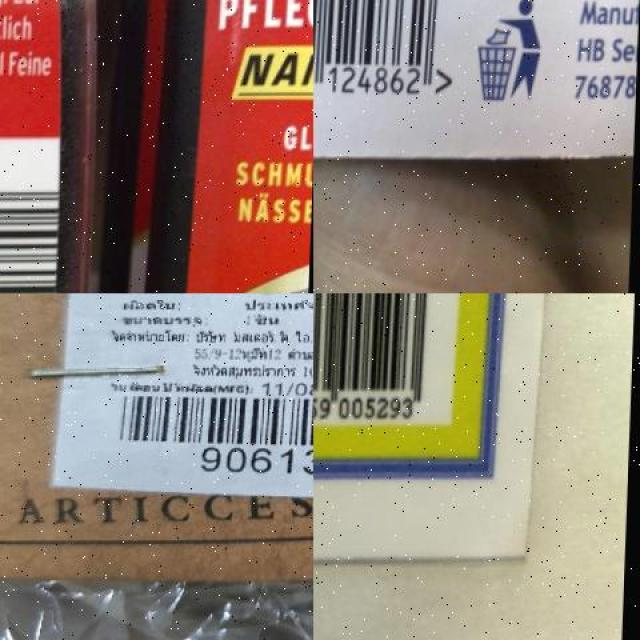Barcode: (313, 0, 479, 128), (105, 380, 314, 481), (313, 293, 463, 427), (0, 136, 63, 293)
